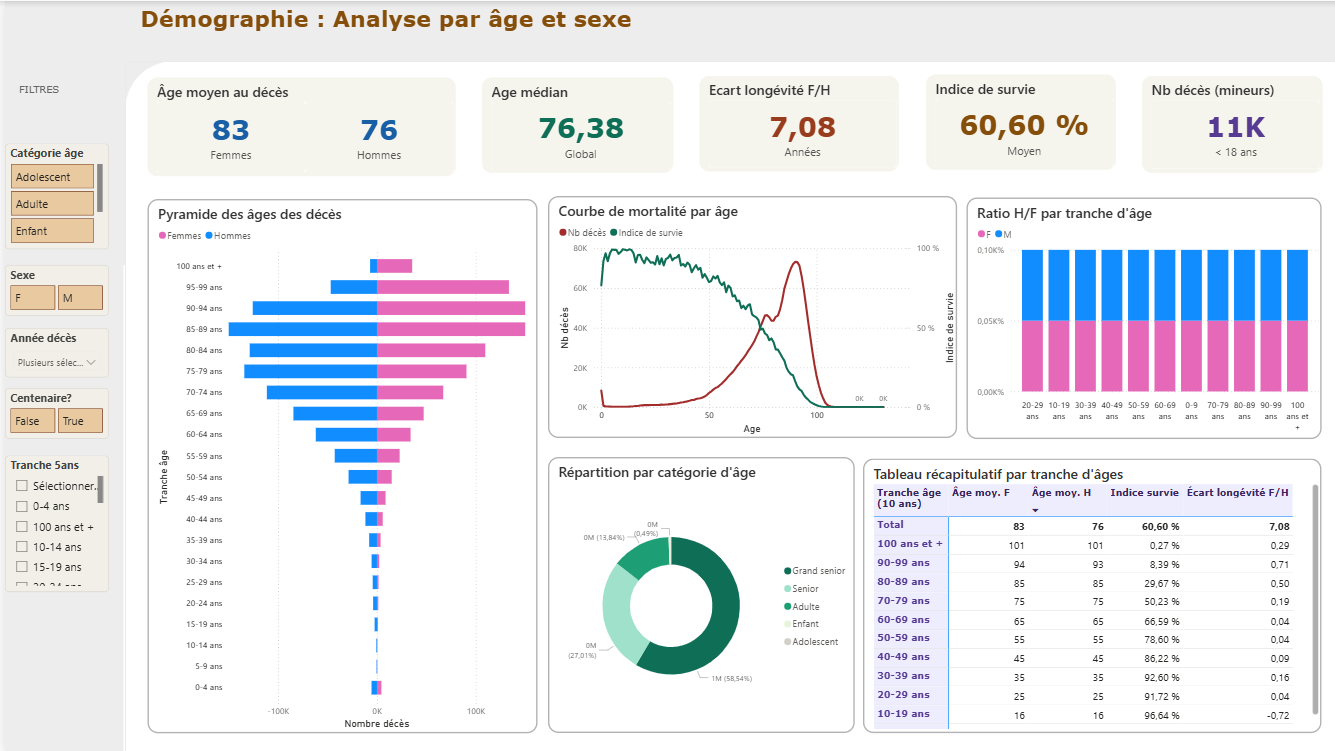

The dashboard page shown, as its layout file describes it:
{"tool":"powerbi","page":{"name":"Démographie","canvas":[1920,1080],"ordinal":1},"visuals":[{"type":"group","id":"g1","title":"Groupe 1","box":[170.4,86.6,1749.3,993.7],"z":0},{"type":"shape","box":[258.6,86.6,1661.1,993.7],"z":0,"group":"g1"},{"type":"cardVisual","title":"Âge moyen au décès","fields":{"Data":["_Mesures.Âge moyen femmes","_Mesures.Âge moyen hommes"]},"box":[204.3,108.7,441.3,141.3],"z":1000},{"type":"shape","box":[170.4,378,1661.1,702.3],"z":1000,"group":"g1"},{"type":"shape","box":[171.6,86.9,1747,992.4],"z":2000,"group":"g1"},{"type":"cardVisual","title":"Age médian","fields":{"Data":["Avg(agg_mortalite_age.Age médian)"]},"box":[683.6,108.7,273.9,137],"z":2000},{"type":"cardVisual","title":"Indice de survie","fields":{"Data":["Avg(agg_mortalite_age.Indice survie)"]},"box":[1318.3,104.3,271.7,137],"z":3000},{"type":"cardVisual","title":"Nb décès (mineurs)","fields":{"Data":["_Mesures.Nb mineurs"]},"box":[1627.9,106.4,258.3,138.3],"z":4000},{"type":"lineChart","title":"Courbe de mortalité par âge","fields":{"Y2":["Avg(agg_mortalite_age.Indice survie)"],"Category":["agg_mortalite_age.Age"],"Y":["Sum(agg_mortalite_age.Nombbre décès)"]},"box":[777.5,280.3,585.9,346.5],"z":5000},{"type":"donutChart","title":"Répartition par catégorie d''âge","fields":{"Y":["_Mesures.Total décès"],"Category":["dim_age.Catégorie âge"]},"box":[776.8,652.2,439.1,395.7],"z":6000},{"type":"barChart","title":"Pyramide des âges des décès","fields":{"Category":["Tri trange age 5.Tranche âge (5 ans)"],"Y":["_Mesures.Nb Femmes (positif)","_Mesures.Nb Hommes (négatif)"]},"box":[204.3,282.6,558.7,765.2],"z":7000},{"type":"advancedSlicerVisual","fields":{"Values":["dim_age.Catégorie âge"]},"box":[0,204.8,148.4,151.6],"z":8000},{"type":"hundredPercentStackedColumnChart","title":"Ratio H/F par tranche d''âge","fields":{"Category":["dim_age.Tranche âge (10 ans)"],"Series":["fact_deces.Sexe"],"Y":["Avg(agg_mortalite_age.Ratio H/F)"]},"box":[1377.9,281.2,508.3,345.8],"z":9000},{"type":"pivotTable","title":"Tableau récapitulatif par tranche d''âges","fields":{"Rows":["dim_age.Tranche âge (10 ans)"],"Values":["_Mesures.Âge moyen femmes","_Mesures.Âge moyen hommes","_Mesures.Indice survie moyen","_Mesures.Écart longévité H/F"]},"box":[1229.7,654.3,656.5,393.5],"z":10000},{"type":"cardVisual","title":"Ecart longévité F/H","fields":{"Data":["_Mesures.Écart longévité H/F"]},"box":[995.4,106.4,285,136.7],"z":11000},{"type":"textbox","box":[189.3,0,812.5,58.9],"z":12000},{"type":"textbox","box":[14.3,110.7,98.2,35.7],"z":13000},{"type":"slicer","title":"Année décès","fields":{"Values":["dim_date.Année"]},"box":[0,469.4,148.4,71],"z":14000},{"type":"advancedSlicerVisual","fields":{"Values":["fact_deces.Sexe"]},"box":[0,377.4,148.4,72.6],"z":15000},{"type":"advancedSlicerVisual","fields":{"Values":["dim_age.Centenaire?"]},"box":[0,554.8,148.4,72.6],"z":16000},{"type":"slicer","title":"Tranche 5ans","fields":{"Values":["dim_age.Tranche âge (5 ans)"]},"box":[0,651.6,148.4,195.2],"z":18000}]}

Visuals, with their boxes in screenshot pixels (x1, y1, x2, y2), scaled from the page's 1920x1080 canvas onto the 1335x751 screenshot:
"Groupe 1" group: bbox(118, 60, 1334, 750)
shape: bbox(180, 60, 1334, 750)
"Âge moyen au décès" cardVisual: bbox(142, 76, 449, 174)
shape: bbox(118, 263, 1273, 750)
shape: bbox(119, 60, 1334, 750)
"Age médian" cardVisual: bbox(475, 76, 666, 171)
"Indice de survie" cardVisual: bbox(917, 73, 1106, 168)
"Nb décès (mineurs)" cardVisual: bbox(1132, 74, 1311, 170)
"Courbe de mortalité par âge" lineChart: bbox(541, 195, 948, 436)
"Répartition par catégorie d''âge" donutChart: bbox(540, 454, 845, 729)
"Pyramide des âges des décès" barChart: bbox(142, 197, 531, 729)
advancedSlicerVisual - dim_age.Catégorie âge: bbox(0, 142, 103, 248)
"Ratio H/F par tranche d''âge" hundredPercentStackedColumnChart: bbox(958, 196, 1311, 436)
"Tableau récapitulatif par tranche d''âges" pivotTable: bbox(855, 455, 1311, 729)
"Ecart longévité F/H" cardVisual: bbox(692, 74, 890, 169)
textbox: bbox(132, 0, 697, 41)
textbox: bbox(10, 77, 78, 102)
"Année décès" slicer: bbox(0, 326, 103, 376)
advancedSlicerVisual - fact_deces.Sexe: bbox(0, 262, 103, 313)
advancedSlicerVisual - dim_age.Centenaire?: bbox(0, 386, 103, 436)
"Tranche 5ans" slicer: bbox(0, 453, 103, 589)
